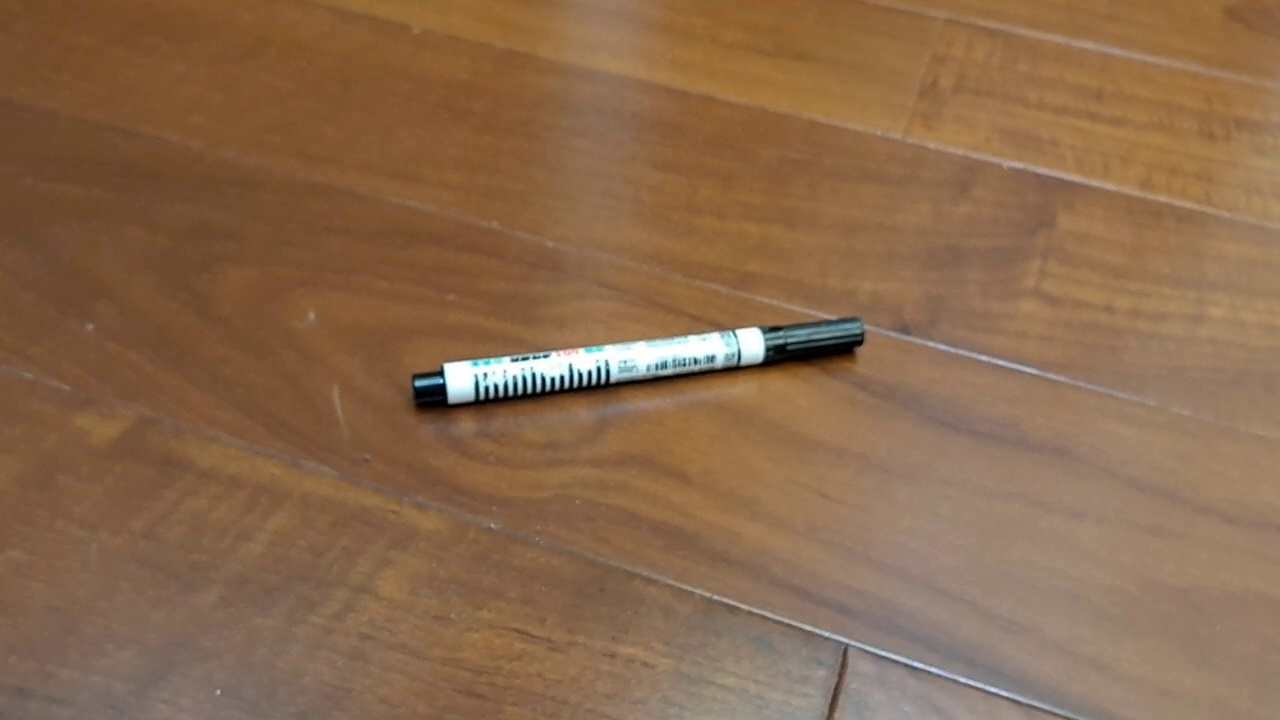pen: (411, 316, 866, 409)
